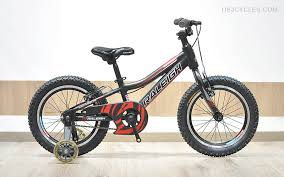bicycle: (20, 16, 267, 169)
